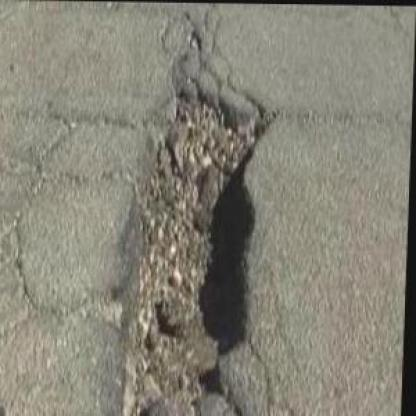pothole: (119, 68, 283, 415)
